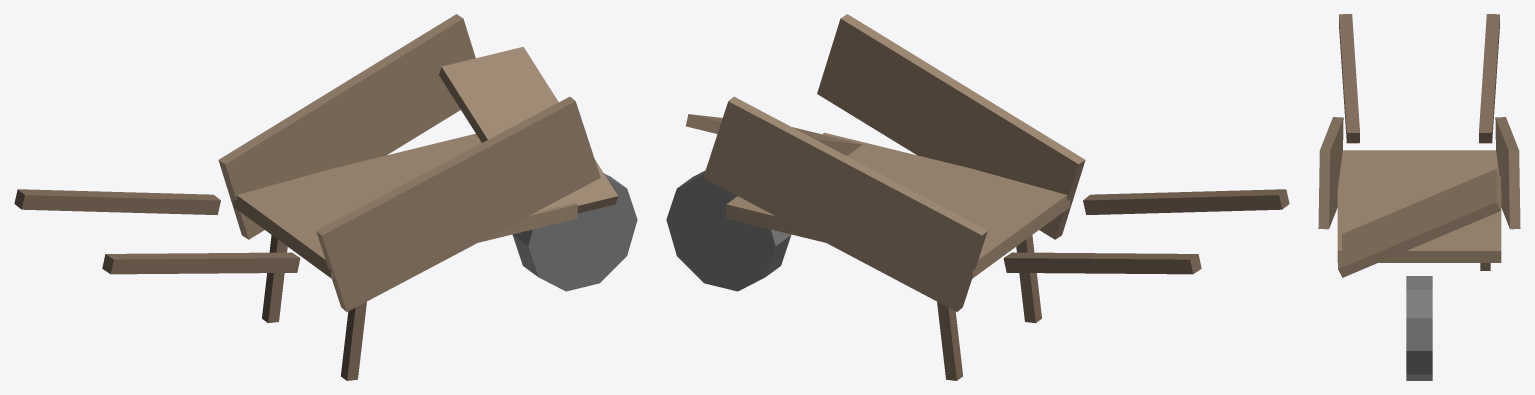
The model's file is SM_BM_BE_Wheelbarrow.glb.
3 renders of one model, left to right at view 1: azimuth 30°, elevation 25°; view 2: azimuth 150°, elevation 25°; view 3: azimuth 270°, elevation 25°, orthographic. The views are drawn at different scales.
Visible parts, largest first — view 1: SM_BM_BE_Wheelbarrow; view 2: SM_BM_BE_Wheelbarrow; view 3: SM_BM_BE_Wheelbarrow.
Boxes of the visible parts, left/top/right/bottom form: SM_BM_BE_Wheelbarrow: left=14, top=14, right=637, bottom=380; SM_BM_BE_Wheelbarrow: left=666, top=14, right=1289, bottom=380; SM_BM_BE_Wheelbarrow: left=1318, top=14, right=1520, bottom=380.
Bounding box in the file's own units: 2.08 × 0.8457 × 0.7649.
